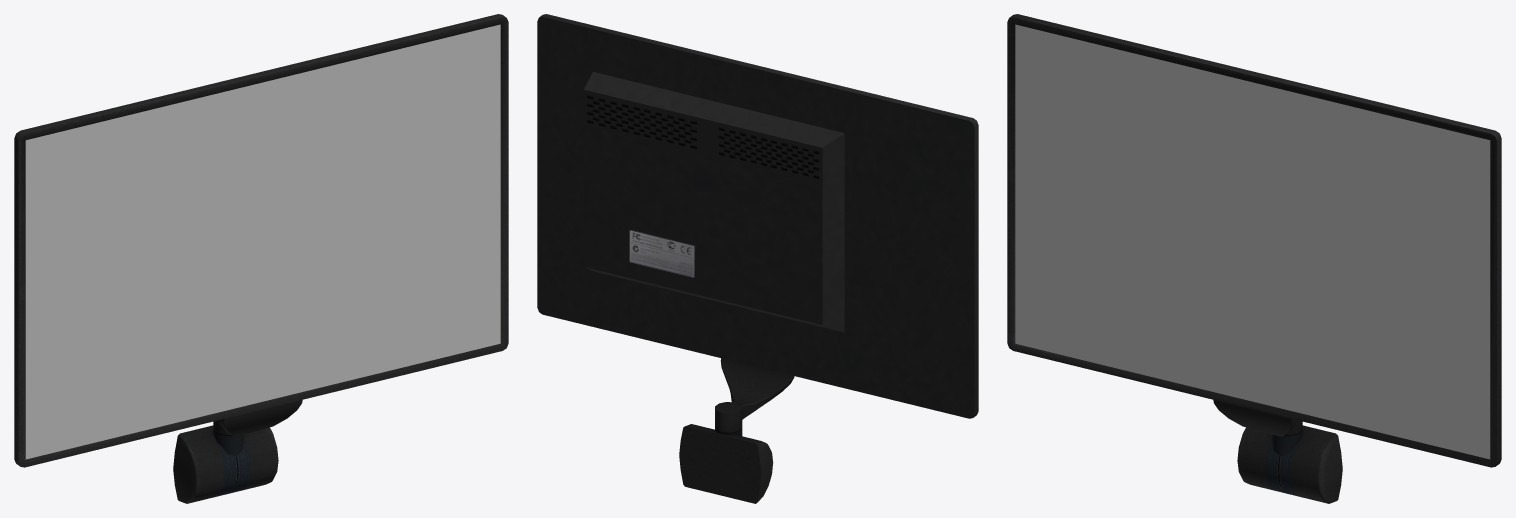
Rendered from televison_small.dae.
3 renders of one model, left to right at view 1: azimuth 30°, elevation 25°; view 2: azimuth 150°, elevation 25°; view 3: azimuth 330°, elevation 25°, orthographic. The views are drawn at different scales.
Parts seen in each view (by area): view 1: GUI, polySurface18, polySurface20; view 2: polySurface18, polySurface20; view 3: GUI, polySurface18, polySurface20.
Boxes of the visible parts, x1=… form: GUI: x1=25, y1=24, x2=500, y2=459; polySurface18: x1=14, y1=14, x2=508, y2=467; polySurface20: x1=173, y1=425, x2=278, y2=503; polySurface18: x1=537, y1=14, x2=978, y2=433; polySurface20: x1=679, y1=424, x2=773, y2=503; GUI: x1=1015, y1=24, x2=1490, y2=459; polySurface18: x1=1007, y1=14, x2=1501, y2=467; polySurface20: x1=1237, y1=425, x2=1342, y2=503.
Size of the model in its own units: 0.9076 by 0.7942 by 0.1424.
